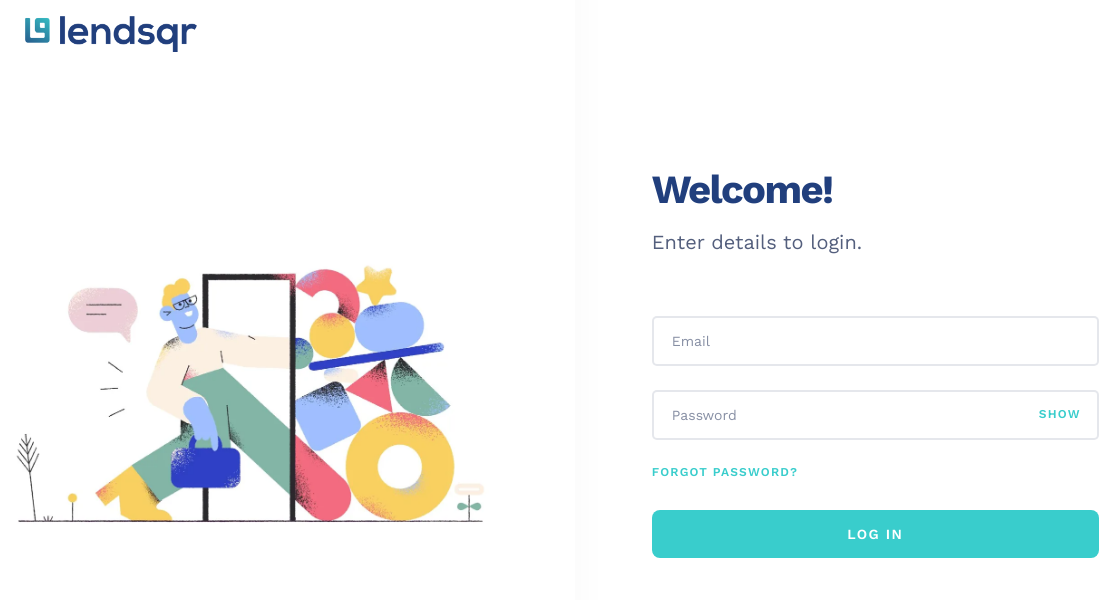
Test: LoginPage › rejects a malformed email and a short password
The width and height of the screenshot is (1119, 600).
Step 1. Type "adedeji@lendsqr" into the field labelled "Email" → (875, 341), box [654,318,1097,364]
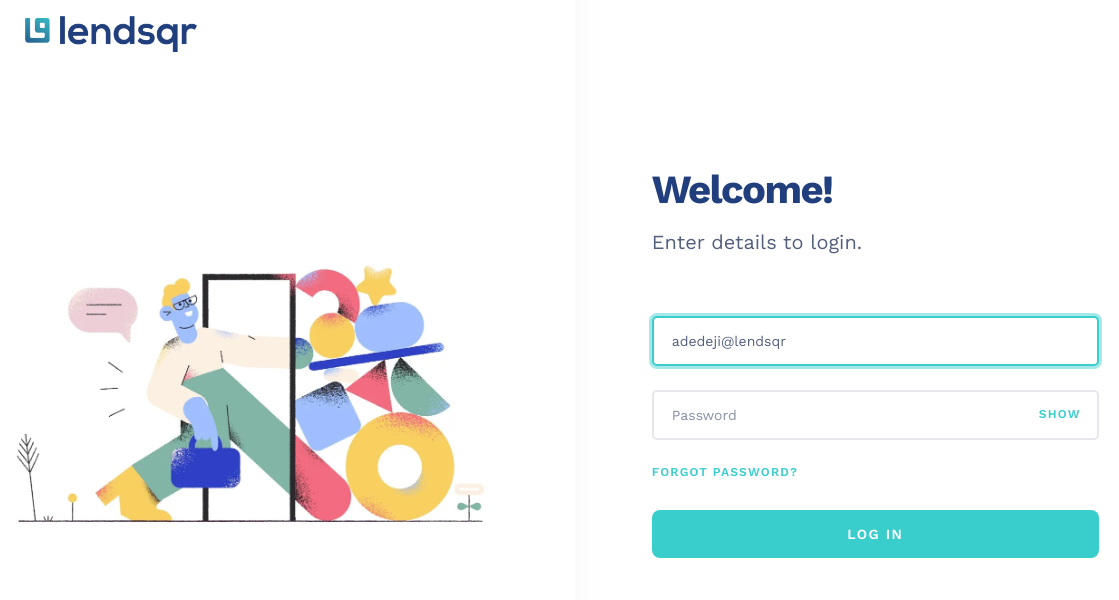
Step 2. Type "short" into the password field labelled "Password" → (846, 415), box [654,392,1039,438]
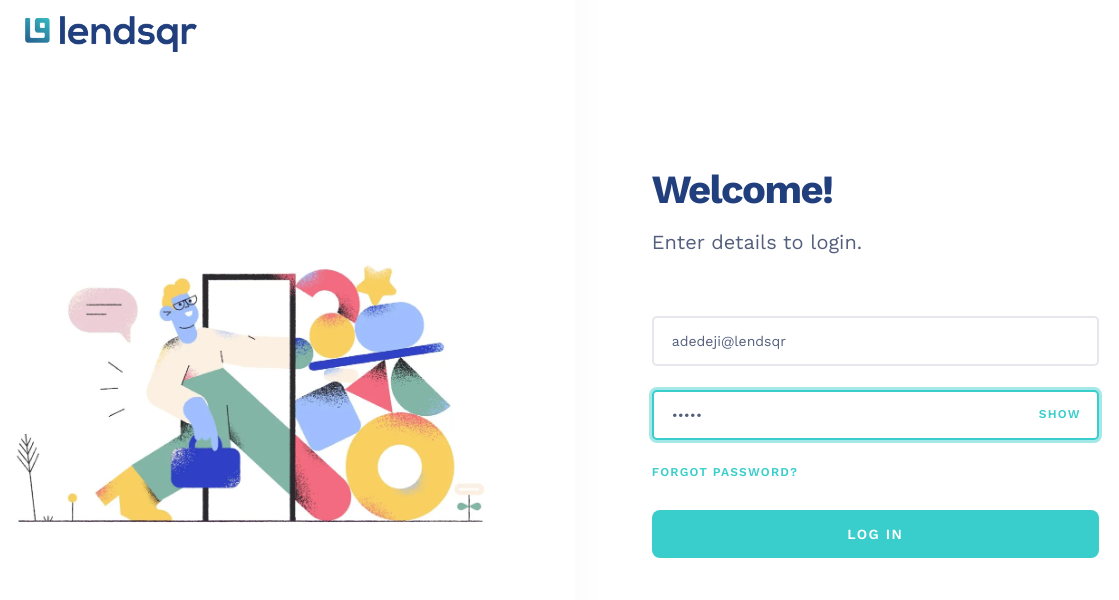
Step 3. Click the button "Log in" → (875, 534), box [652,510,1099,558]
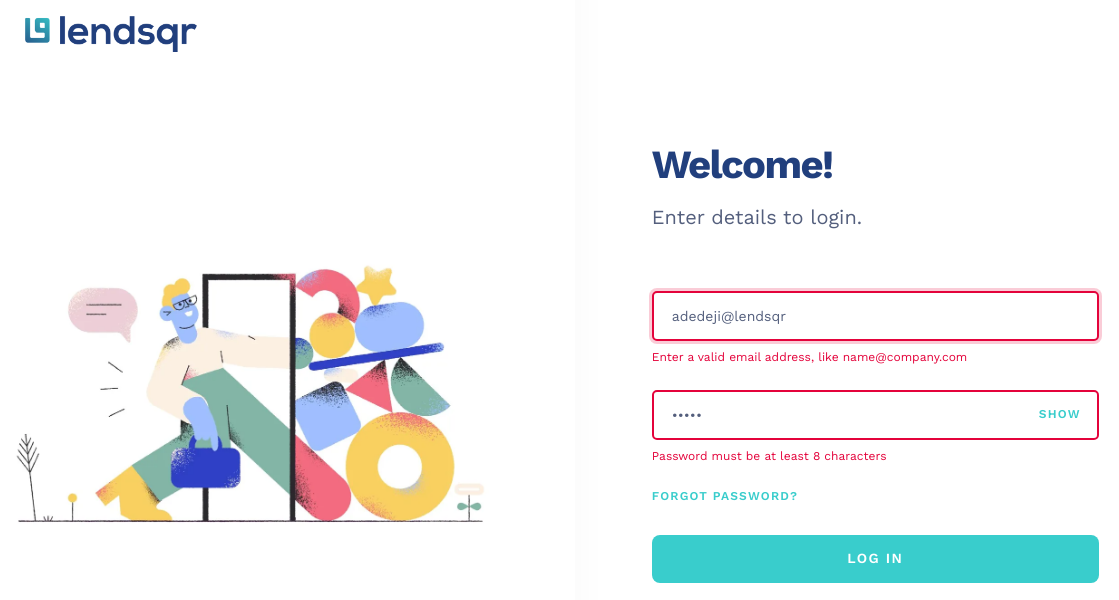
Expected: the text "Enter a valid email address, like name@company.com" is shown, [652,350,967,364]
Expected: the text "Password must be at least 8 characters" is shown, [652,449,886,463]
